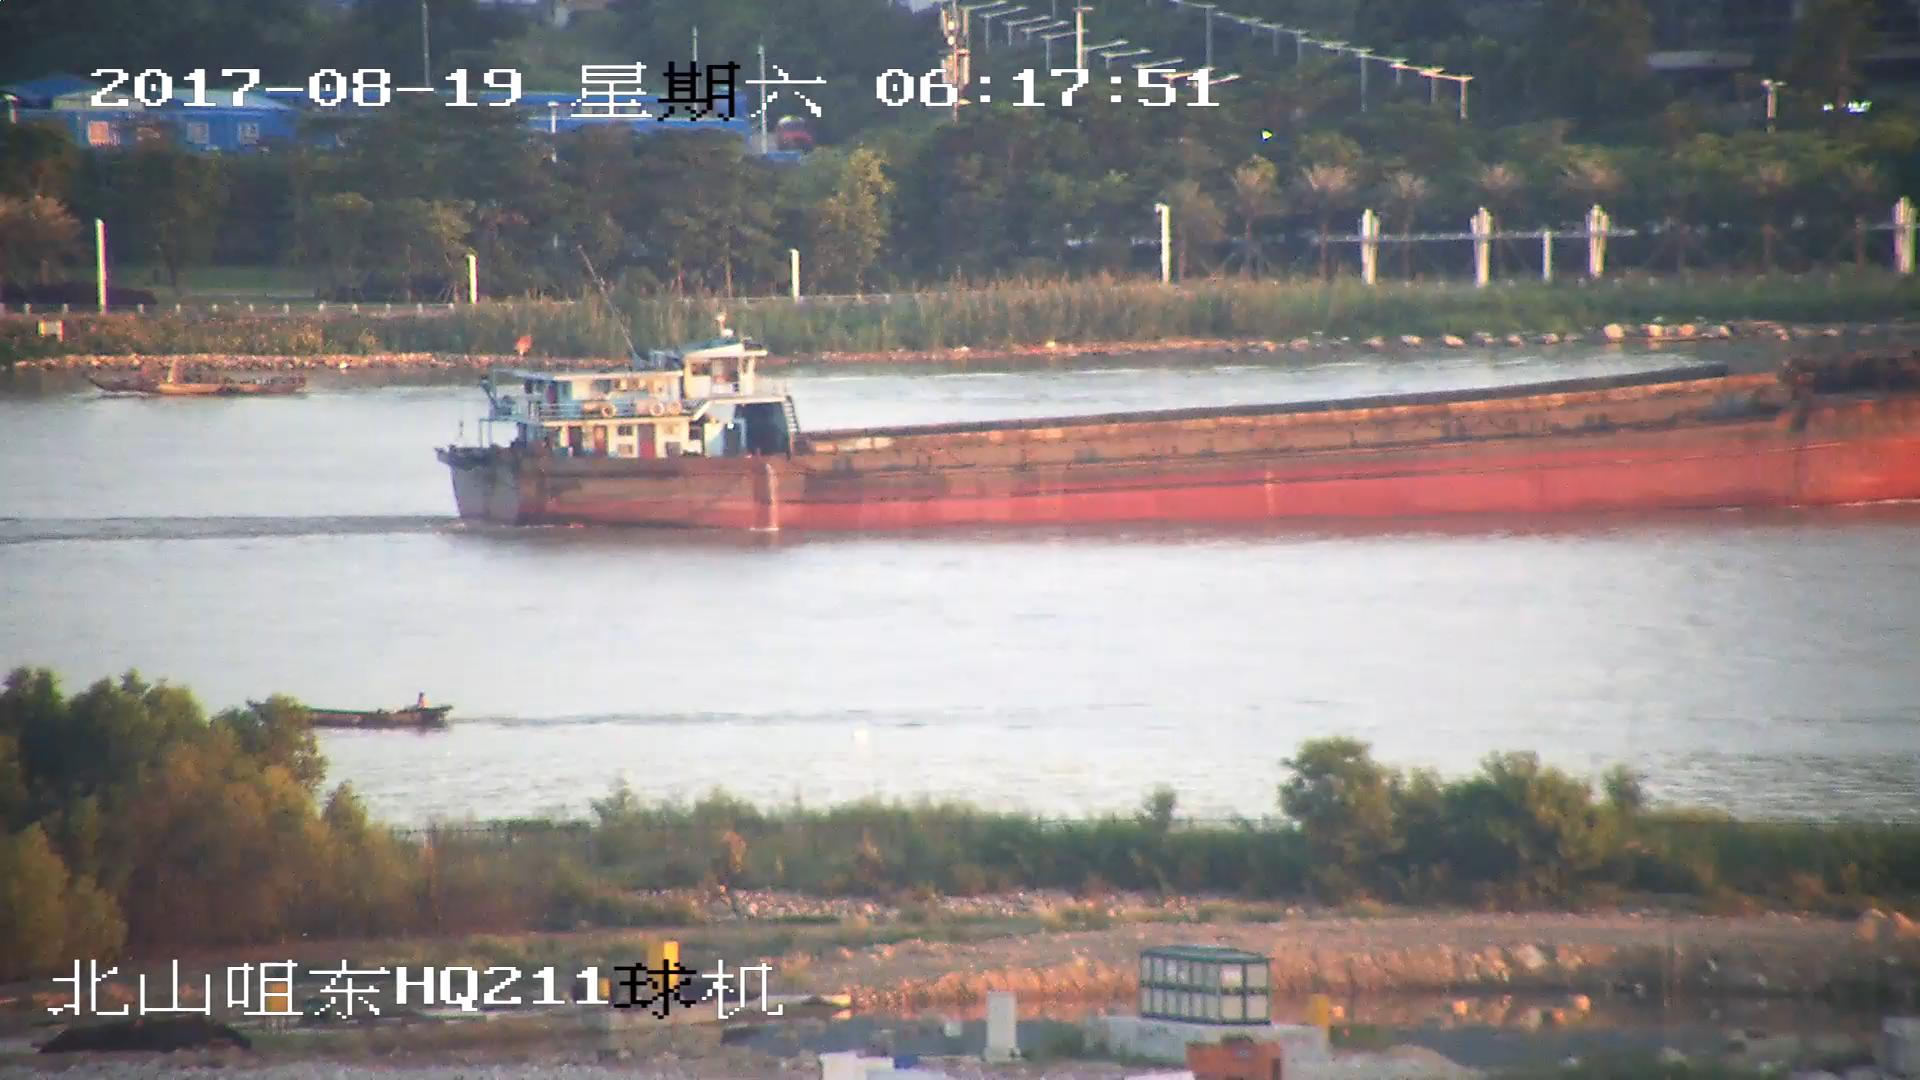bulk cargo carrier: (440, 324, 1920, 536)
fishing boat: (89, 359, 308, 396), (309, 688, 451, 731)
